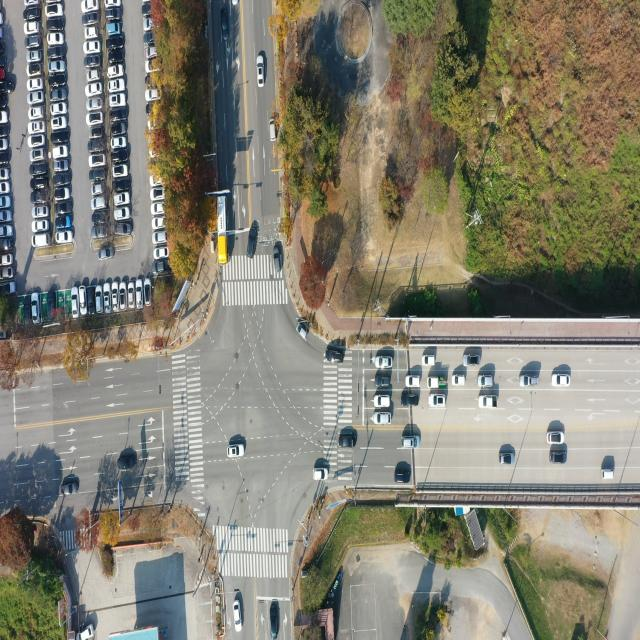car: (248, 220, 259, 258), (324, 350, 344, 365), (79, 623, 96, 640), (271, 606, 279, 640), (478, 394, 495, 410), (53, 172, 71, 187), (220, 9, 228, 42), (274, 246, 282, 279), (520, 376, 540, 389), (32, 234, 50, 248), (553, 374, 571, 388), (45, 3, 63, 17), (375, 356, 394, 369), (235, 600, 243, 630), (48, 61, 65, 75), (548, 430, 565, 444), (108, 79, 125, 93), (119, 457, 137, 470), (47, 291, 55, 320), (296, 321, 307, 342), (257, 56, 264, 89), (429, 394, 445, 408), (53, 116, 69, 130), (89, 112, 105, 126), (110, 124, 126, 138), (62, 483, 78, 497), (154, 262, 170, 276), (0, 281, 16, 295), (53, 130, 69, 144), (57, 232, 74, 245), (404, 438, 421, 451), (401, 394, 418, 407), (110, 108, 127, 121), (374, 378, 392, 390), (25, 22, 40, 36), (88, 84, 103, 98), (55, 187, 70, 201), (32, 294, 39, 324), (230, 446, 246, 459), (113, 192, 129, 205), (86, 41, 102, 54), (47, 34, 63, 47), (112, 166, 128, 179), (552, 452, 568, 465), (115, 222, 131, 235), (394, 471, 410, 484), (108, 66, 124, 79), (110, 95, 126, 108), (90, 156, 106, 169), (53, 90, 69, 103), (106, 7, 122, 20), (109, 51, 125, 64), (463, 355, 480, 367), (340, 436, 357, 448), (478, 377, 495, 389), (49, 20, 66, 32), (71, 288, 78, 317), (136, 280, 143, 308), (104, 284, 111, 312), (79, 287, 86, 315), (144, 278, 151, 306), (24, 298, 31, 326), (29, 93, 44, 106), (85, 12, 100, 25), (57, 217, 72, 230), (89, 139, 104, 152), (113, 149, 128, 162), (49, 75, 64, 88), (375, 414, 391, 426), (110, 138, 126, 150), (28, 124, 44, 136), (33, 220, 49, 232), (33, 207, 49, 219), (56, 204, 72, 216), (31, 165, 47, 177), (29, 136, 45, 148), (88, 99, 104, 111), (54, 162, 70, 174), (30, 149, 46, 161), (31, 192, 47, 204), (113, 180, 129, 192), (108, 34, 124, 46), (152, 234, 166, 247), (92, 228, 106, 241), (118, 284, 125, 310), (96, 286, 103, 312), (26, 7, 40, 20), (0, 79, 13, 93), (146, 60, 159, 74), (144, 33, 157, 47), (90, 126, 104, 139), (54, 146, 69, 158), (30, 108, 45, 120), (376, 396, 391, 408), (499, 454, 514, 466), (114, 209, 129, 221), (53, 104, 68, 116), (87, 58, 102, 70), (406, 377, 422, 388), (48, 48, 64, 59), (128, 282, 135, 307), (151, 203, 164, 216), (93, 199, 106, 212), (92, 170, 105, 183), (100, 249, 114, 261), (314, 468, 328, 480), (84, 0, 98, 12), (150, 188, 164, 200), (28, 52, 42, 64), (154, 248, 168, 260), (29, 78, 43, 90), (107, 24, 121, 36), (112, 283, 118, 311), (26, 36, 40, 48), (28, 65, 42, 77), (88, 69, 102, 81), (600, 468, 614, 480), (0, 228, 13, 240), (0, 255, 13, 267), (151, 218, 164, 230), (150, 174, 162, 187), (452, 376, 466, 387), (86, 28, 100, 39), (32, 178, 46, 189), (88, 288, 94, 313), (0, 211, 12, 223), (146, 91, 158, 103), (1, 269, 14, 280), (270, 116, 276, 139), (0, 111, 9, 126), (0, 198, 11, 210), (423, 355, 435, 366), (94, 213, 106, 224), (144, 20, 154, 33), (93, 185, 104, 196), (0, 170, 10, 182), (0, 182, 10, 194), (147, 49, 157, 61), (0, 96, 8, 111), (0, 139, 9, 152), (0, 126, 9, 139), (106, 0, 120, 8), (146, 74, 154, 88), (142, 5, 152, 16), (0, 153, 9, 165), (25, 0, 39, 6), (0, 54, 6, 68), (0, 68, 6, 81), (230, 0, 240, 7), (0, 42, 5, 55), (0, 12, 4, 26), (0, 26, 3, 39)
large_bus: (217, 194, 230, 264)
small_truck: (427, 377, 445, 390), (0, 238, 13, 251)
